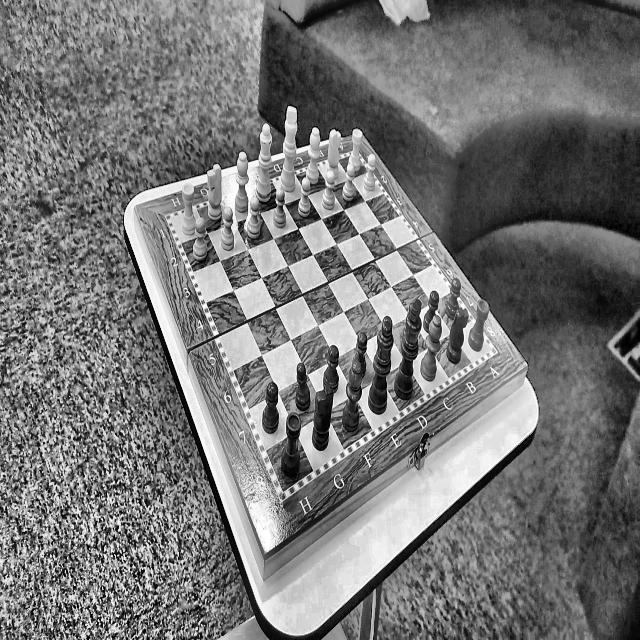chessboard: (171, 153, 494, 493)
